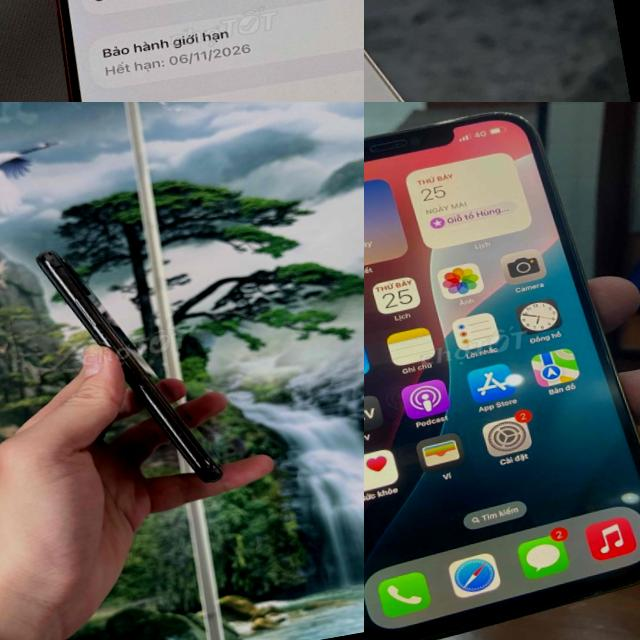gen_12_13: (364, 102, 640, 640), (364, 0, 601, 102)
gen_17: (6, 0, 364, 102)
gen_x_xs: (36, 250, 221, 481)
